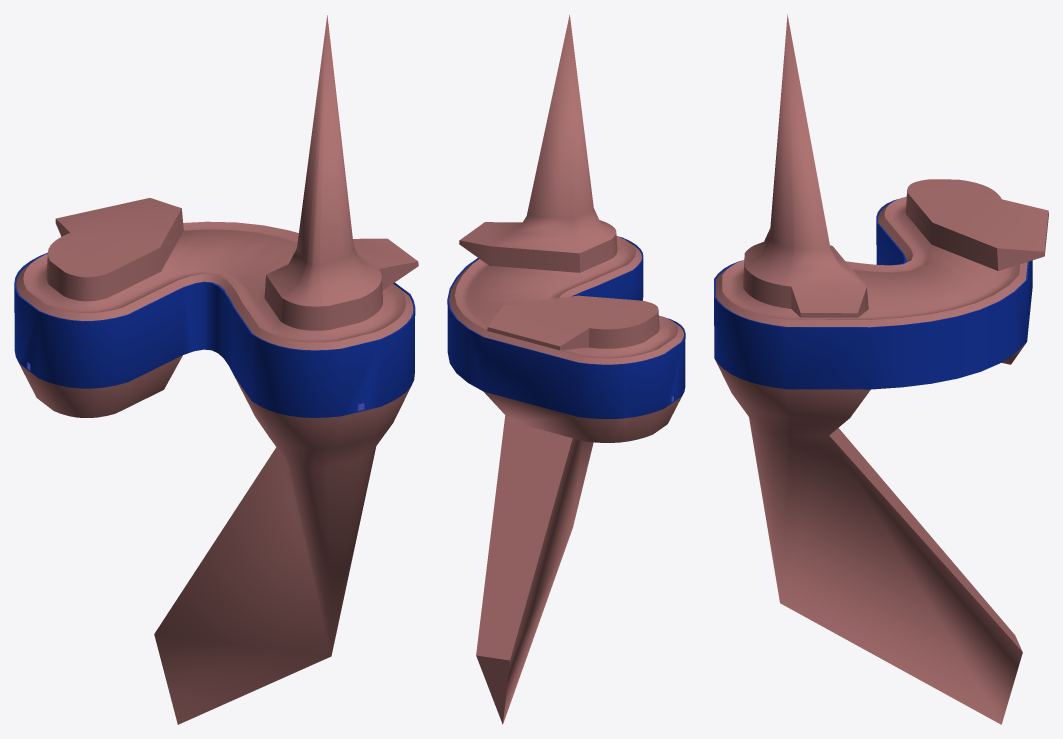
File: SS Module Bend.FBX
The picture shows the model from 3 angles, left to right: view 1: azimuth 30°, elevation 25°; view 2: azimuth 150°, elevation 25°; view 3: azimuth 270°, elevation 25°; orthographic projection. The views are drawn at different scales.
Parts seen in each view (by area): view 1: Plane151, fLOOR004; view 2: Plane151, fLOOR004; view 3: Plane151, fLOOR004.
Part boxes in pixels (x1,y1,x2,y2): Plane151: (14,252,415,724); fLOOR004: (16,15,418,350); Plane151: (447,236,685,724); fLOOR004: (449,14,683,364); Plane151: (714,197,1032,724); fLOOR004: (715,14,1048,327).
Bounding box in the file's own units: 188 × 453 × 189.
